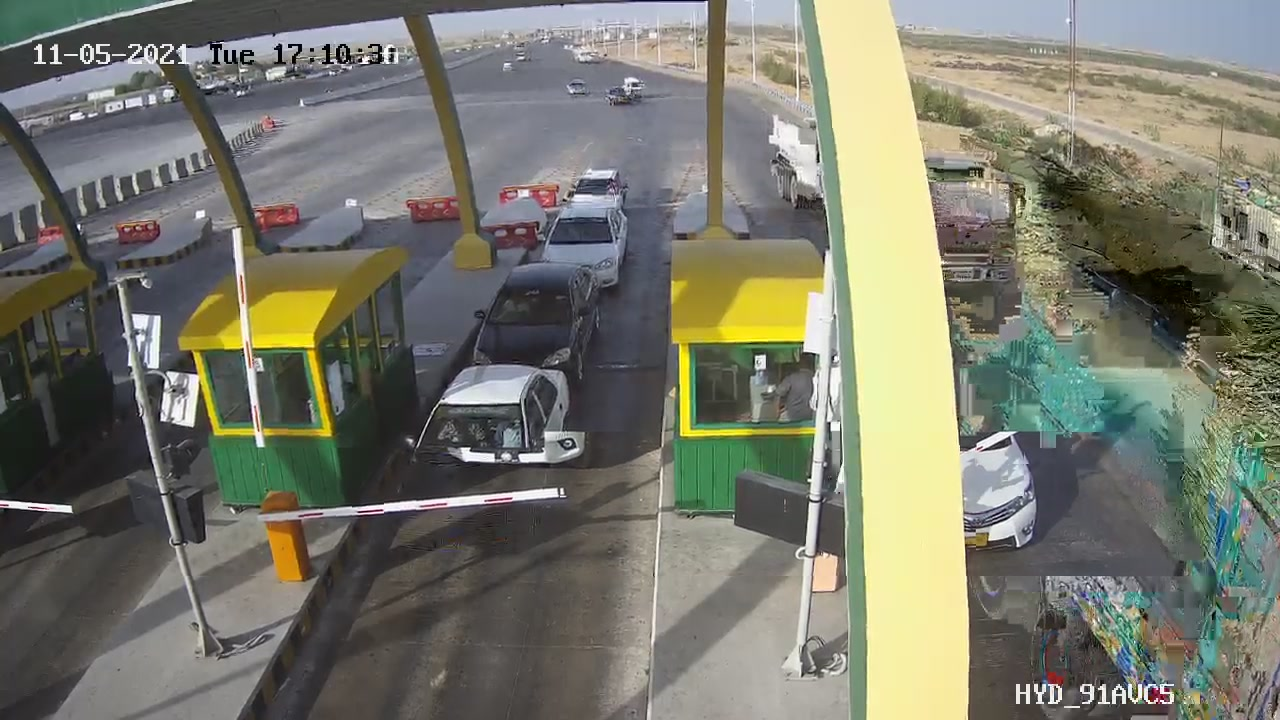F1: (456, 251, 621, 411)
